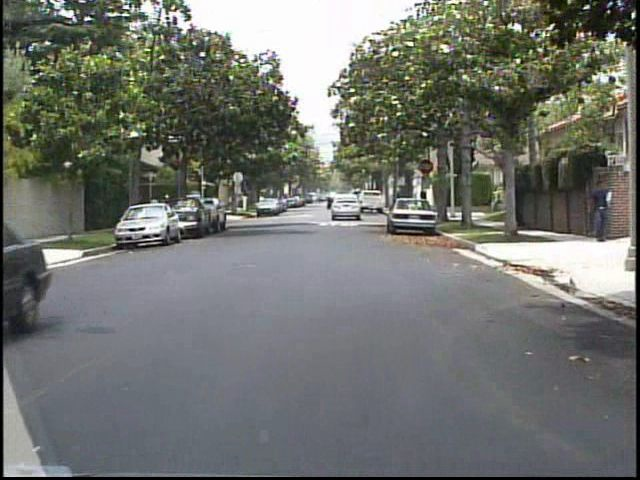person: (585, 176, 613, 247), (150, 193, 166, 229), (416, 185, 433, 215)
